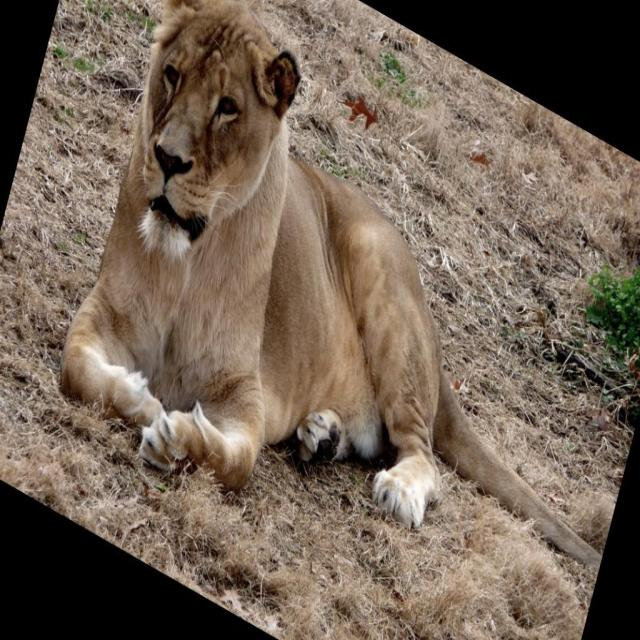Lion: (48, 0, 640, 639)
